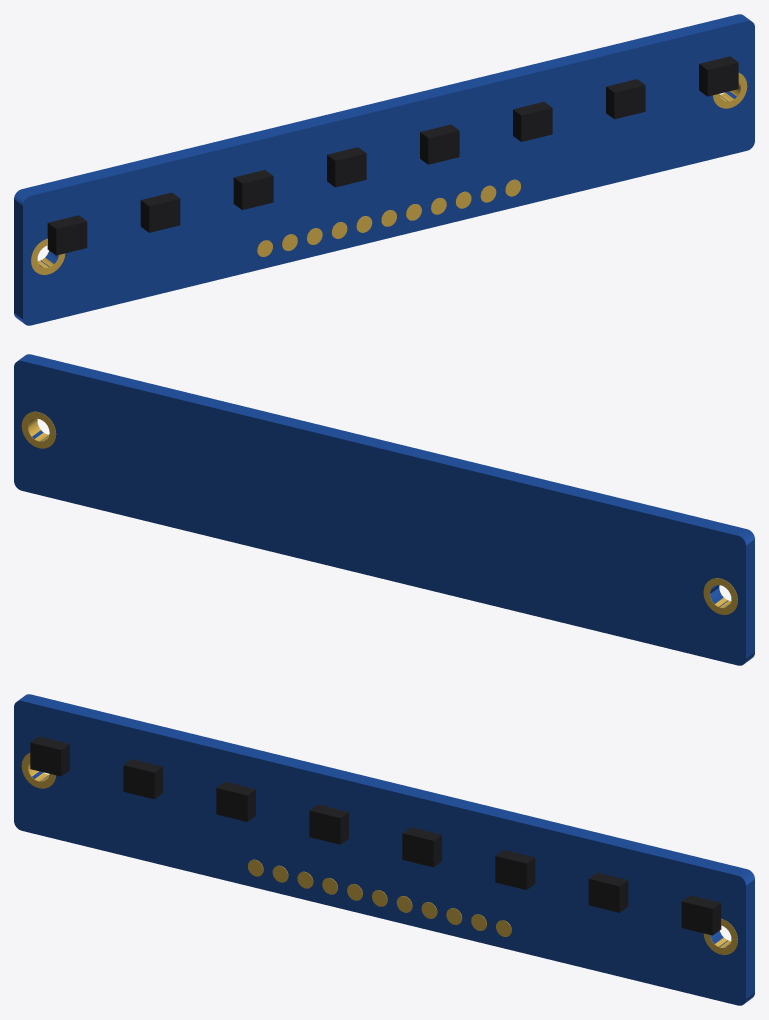
The model's file is pololu-961-qtr-8rc.glb.
3 renders of one model, top to bottom at view 1: azimuth 30°, elevation 25°; view 2: azimuth 150°, elevation 25°; view 3: azimuth 330°, elevation 25°, orthographic.
Parts seen in each view (by area): view 1: board, ir_sensor_2, ir_sensor_3, ir_sensor_1, ir_sensor_6, ir_sensor_8, ir_sensor_5, ir_sensor_7, ir_sensor_4, hole_1, hole_2; view 2: board, hole_2, hole_1; view 3: board, ir_sensor_6, ir_sensor_7, ir_sensor_8, ir_sensor_1, ir_sensor_3, ir_sensor_2, ir_sensor_4, ir_sensor_5, hole_2, hole_1.
Part boxes in pixels (x1,y1,x2,y2): board: [14, 14, 754, 325]; ir_sensor_2: [140, 192, 180, 232]; ir_sensor_3: [233, 170, 273, 209]; ir_sensor_1: [47, 215, 87, 255]; ir_sensor_6: [513, 102, 552, 141]; ir_sensor_8: [699, 56, 738, 96]; ir_sensor_5: [420, 124, 459, 164]; ir_sensor_7: [606, 79, 645, 119]; ir_sensor_4: [327, 147, 366, 187]; hole_1: [31, 238, 65, 274]; hole_2: [713, 73, 747, 108]; board: [14, 354, 754, 665]; hole_2: [21, 411, 56, 448]; hole_1: [703, 578, 737, 614]; board: [14, 694, 754, 1005]; ir_sensor_6: [495, 850, 535, 889]; ir_sensor_7: [588, 872, 628, 912]; ir_sensor_8: [681, 895, 721, 935]; ir_sensor_1: [30, 736, 69, 776]; ir_sensor_3: [216, 782, 255, 821]; ir_sensor_2: [123, 759, 162, 799]; ir_sensor_4: [309, 804, 348, 844]; ir_sensor_5: [402, 827, 441, 867]; hole_2: [703, 918, 737, 954]; hole_1: [21, 753, 55, 788].
Size of the model in its own units: 74.93 by 12.7 by 3.13.
